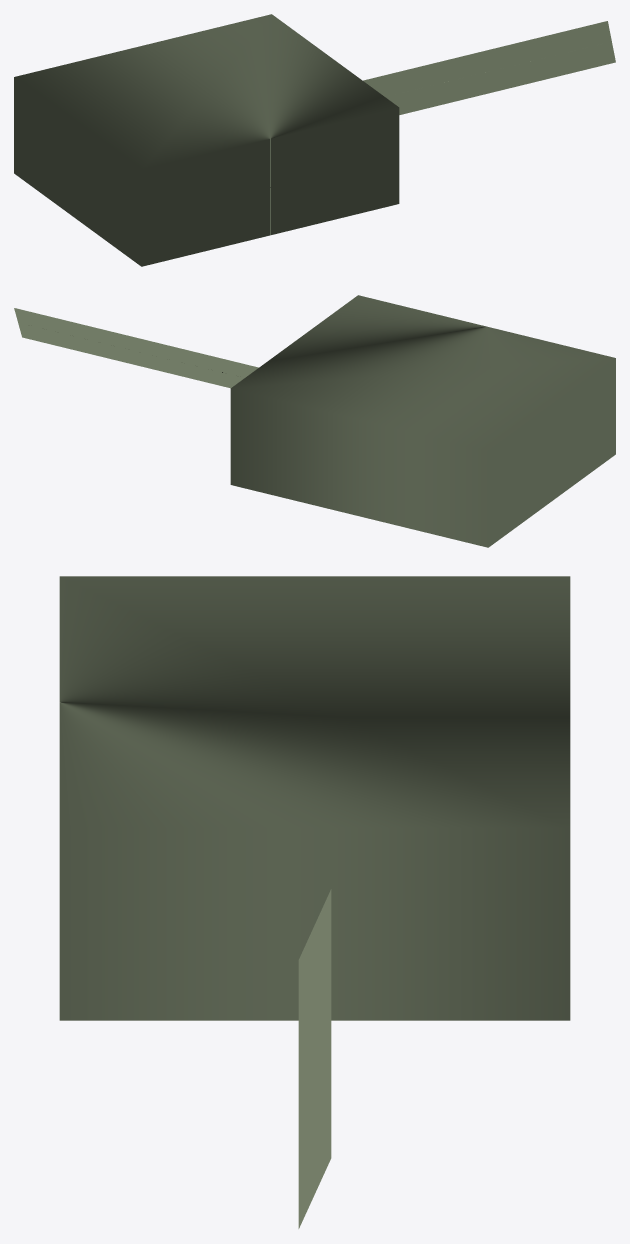
The model's file is tank_turret.lod2.glb.
3 views of the same model, one above another, from view 1: azimuth 30°, elevation 25°; view 2: azimuth 150°, elevation 25°; view 3: azimuth 270°, elevation 25° (orthographic). The views are drawn at different scales.
Bounding box in the file's own units: 2.9 × 0.5 × 1.2.
